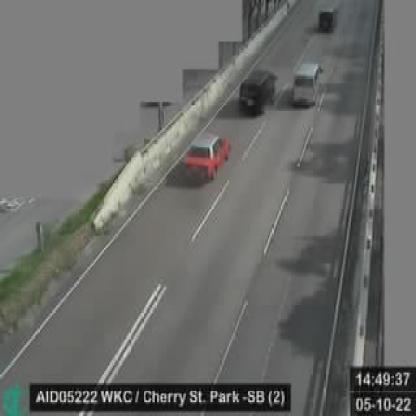Car: (182, 132, 229, 182), (237, 71, 277, 113), (291, 59, 324, 109), (320, 3, 336, 28)
